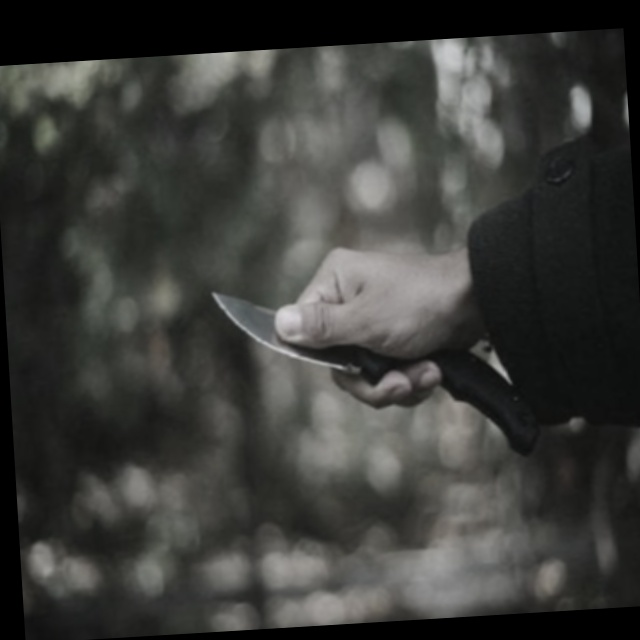Sharp-Object: (215, 276, 543, 474)
